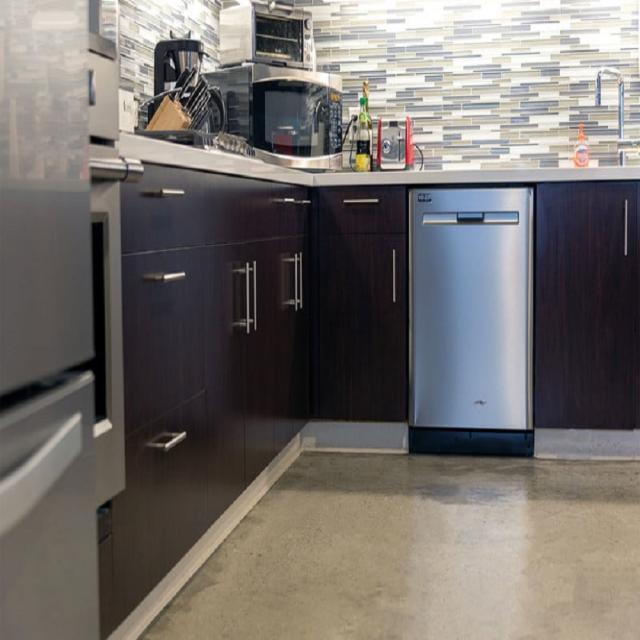dishwasher: (402, 158, 542, 453)
